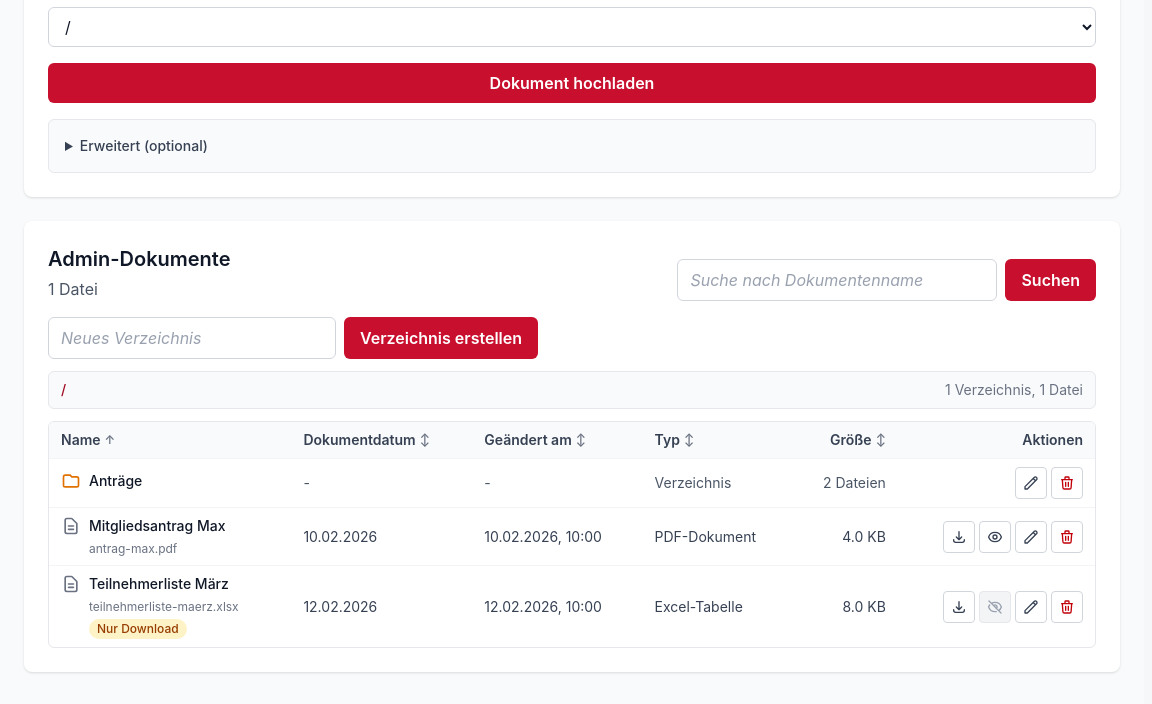
AdminDocumentsPage › navigates into directory on click
(page scrolled)
Expected: the text "Mitgliedsantrag Max" is shown, top-left (61, 516), bottom-right (226, 536)
Click the cell "Anträge" at {"x": 116, "y": 480}, box top-left (49, 458), bottom-right (291, 508)
(page scrolled)
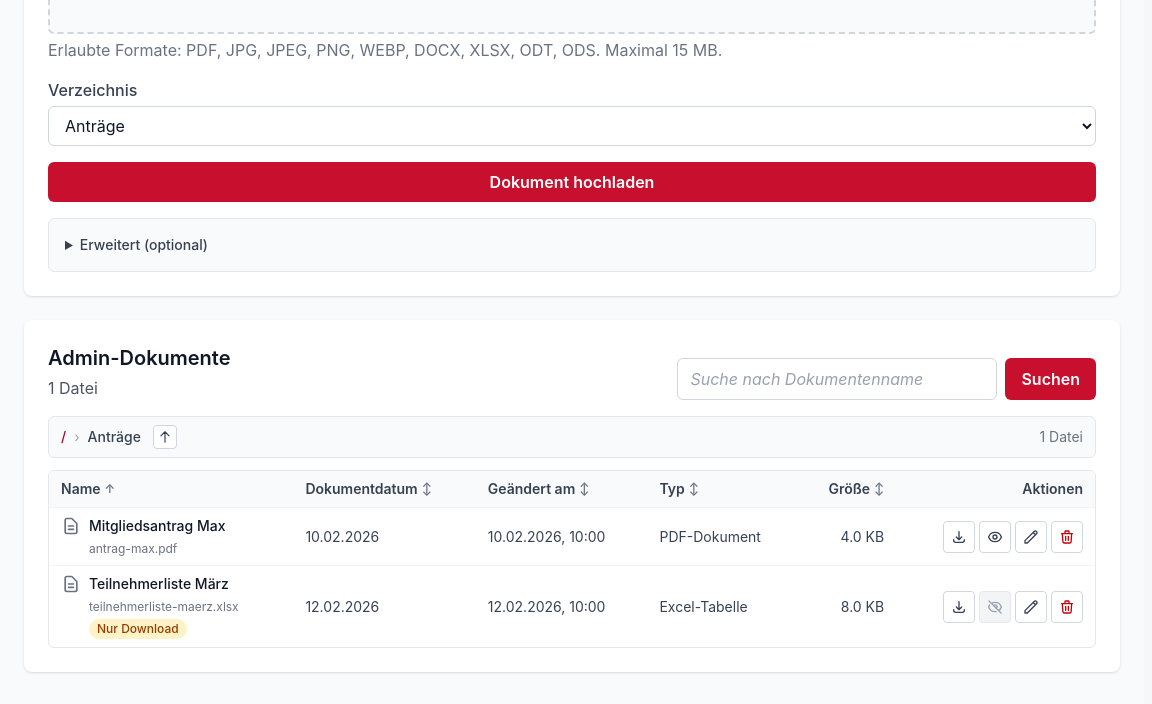
Result: the button "Verzeichnis erstellen" is gone
Result: the button named "Zum übergeordneten Verzeichnis" is shown at top-left (153, 425), bottom-right (177, 449)
